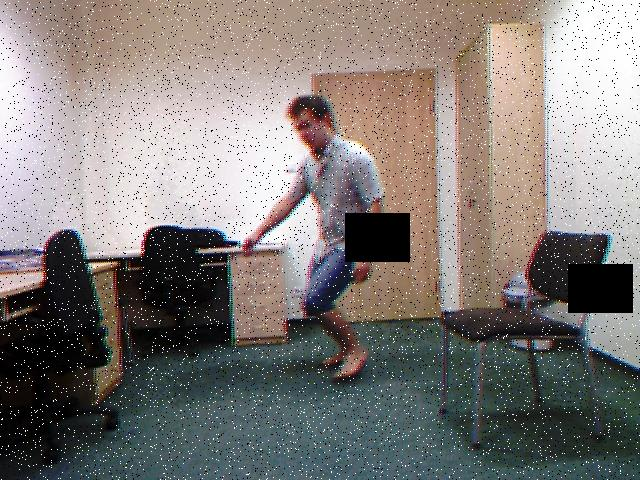fall: (244, 95, 384, 378)
